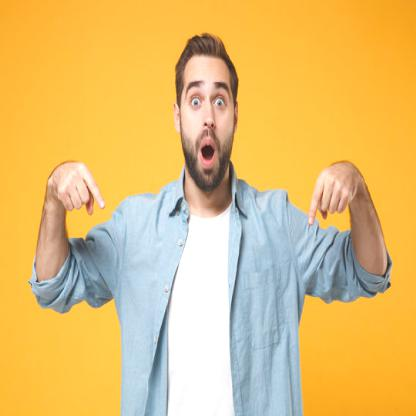Down: (301, 161, 362, 246), (45, 148, 110, 227)
